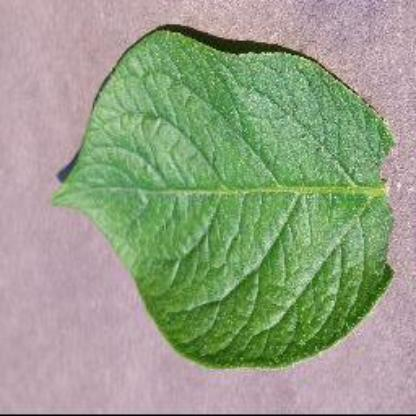Healthy-plant: (48, 28, 400, 370)
